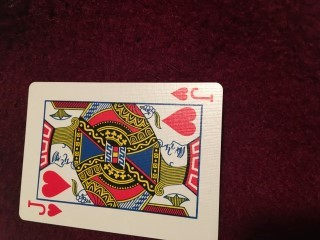JackOfHearts: (18, 81, 224, 240)
